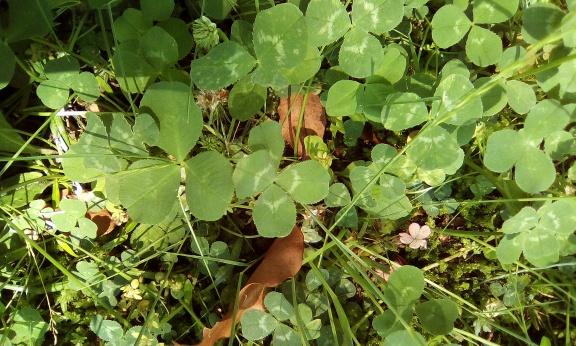4leaf: (231, 120, 331, 239)
